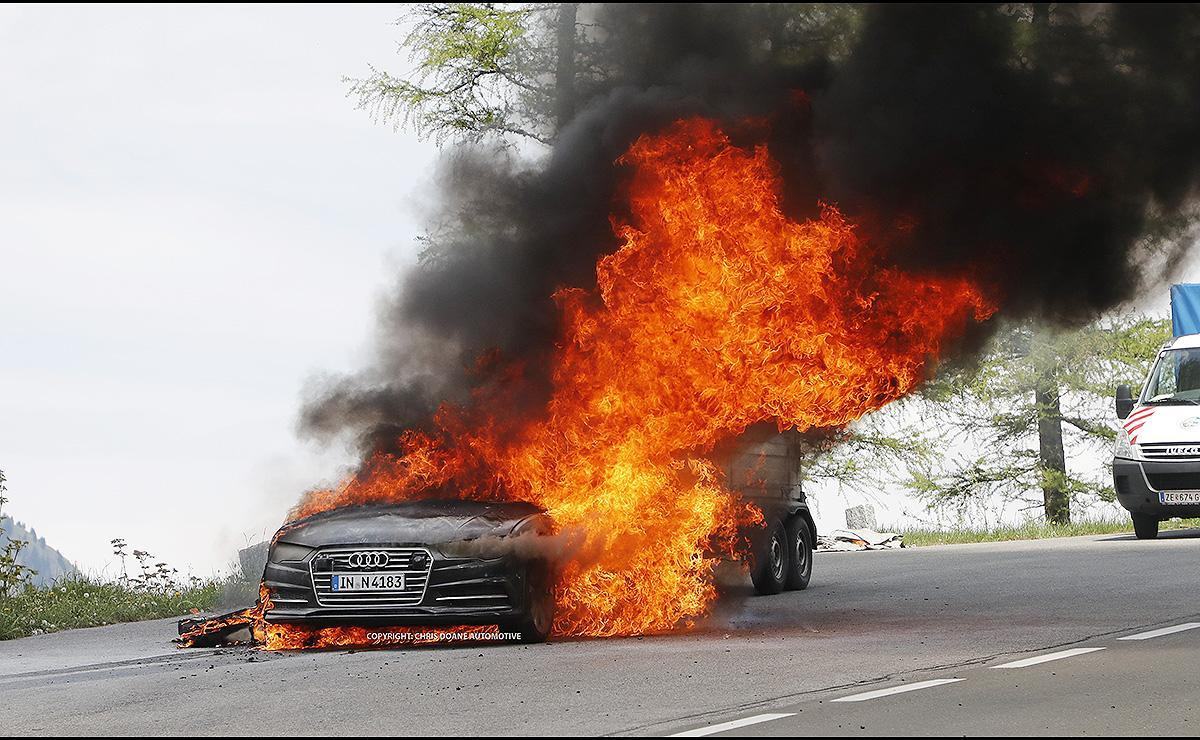fire: (261, 126, 978, 621)
